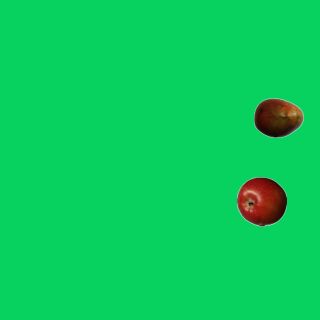Apple Braeburn: (236, 176, 286, 226)
Mango Red: (253, 92, 303, 142)
